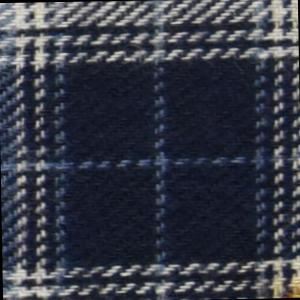Oil Stain: (265, 263, 300, 299)
